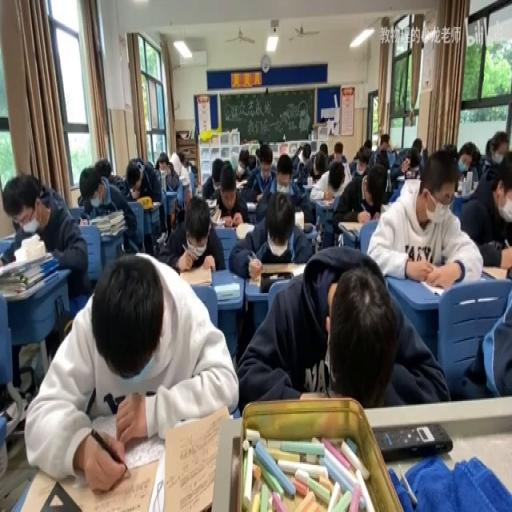calculator: (91, 406, 165, 474), (373, 420, 453, 460), (146, 448, 165, 512), (90, 208, 126, 238), (262, 260, 306, 279), (178, 263, 212, 285), (213, 282, 241, 300), (418, 279, 446, 294), (338, 220, 365, 234), (482, 264, 508, 278), (234, 222, 254, 240), (214, 219, 240, 230), (293, 209, 303, 230), (209, 205, 221, 222), (314, 196, 334, 206), (154, 232, 166, 247), (299, 182, 314, 193), (1, 230, 17, 240), (247, 276, 262, 286), (380, 202, 391, 213), (205, 196, 217, 206), (178, 174, 190, 184), (245, 202, 256, 212), (234, 179, 246, 188), (77, 216, 89, 225), (150, 199, 161, 206), (395, 174, 405, 180)
paper: (28, 250, 238, 491), (236, 246, 446, 411), (368, 145, 483, 285), (2, 171, 88, 304), (456, 267, 511, 401), (229, 186, 310, 276), (158, 192, 224, 274), (332, 160, 383, 240), (122, 155, 164, 245), (205, 161, 248, 226), (246, 145, 278, 206), (165, 150, 193, 214), (458, 198, 490, 244), (478, 132, 507, 181), (452, 142, 482, 184), (368, 132, 394, 168), (302, 142, 326, 178), (398, 148, 422, 182), (275, 156, 293, 195), (325, 141, 347, 172), (388, 169, 406, 205), (478, 240, 505, 264), (290, 142, 306, 171), (108, 171, 126, 192), (94, 158, 110, 179), (156, 152, 170, 174), (187, 160, 197, 190), (442, 141, 458, 159), (341, 161, 351, 186), (418, 145, 428, 168), (212, 163, 222, 185), (411, 138, 421, 155), (246, 154, 255, 172), (362, 138, 372, 154), (178, 149, 186, 165), (353, 148, 362, 162), (253, 148, 259, 165)
person: (302, 220, 314, 232)
